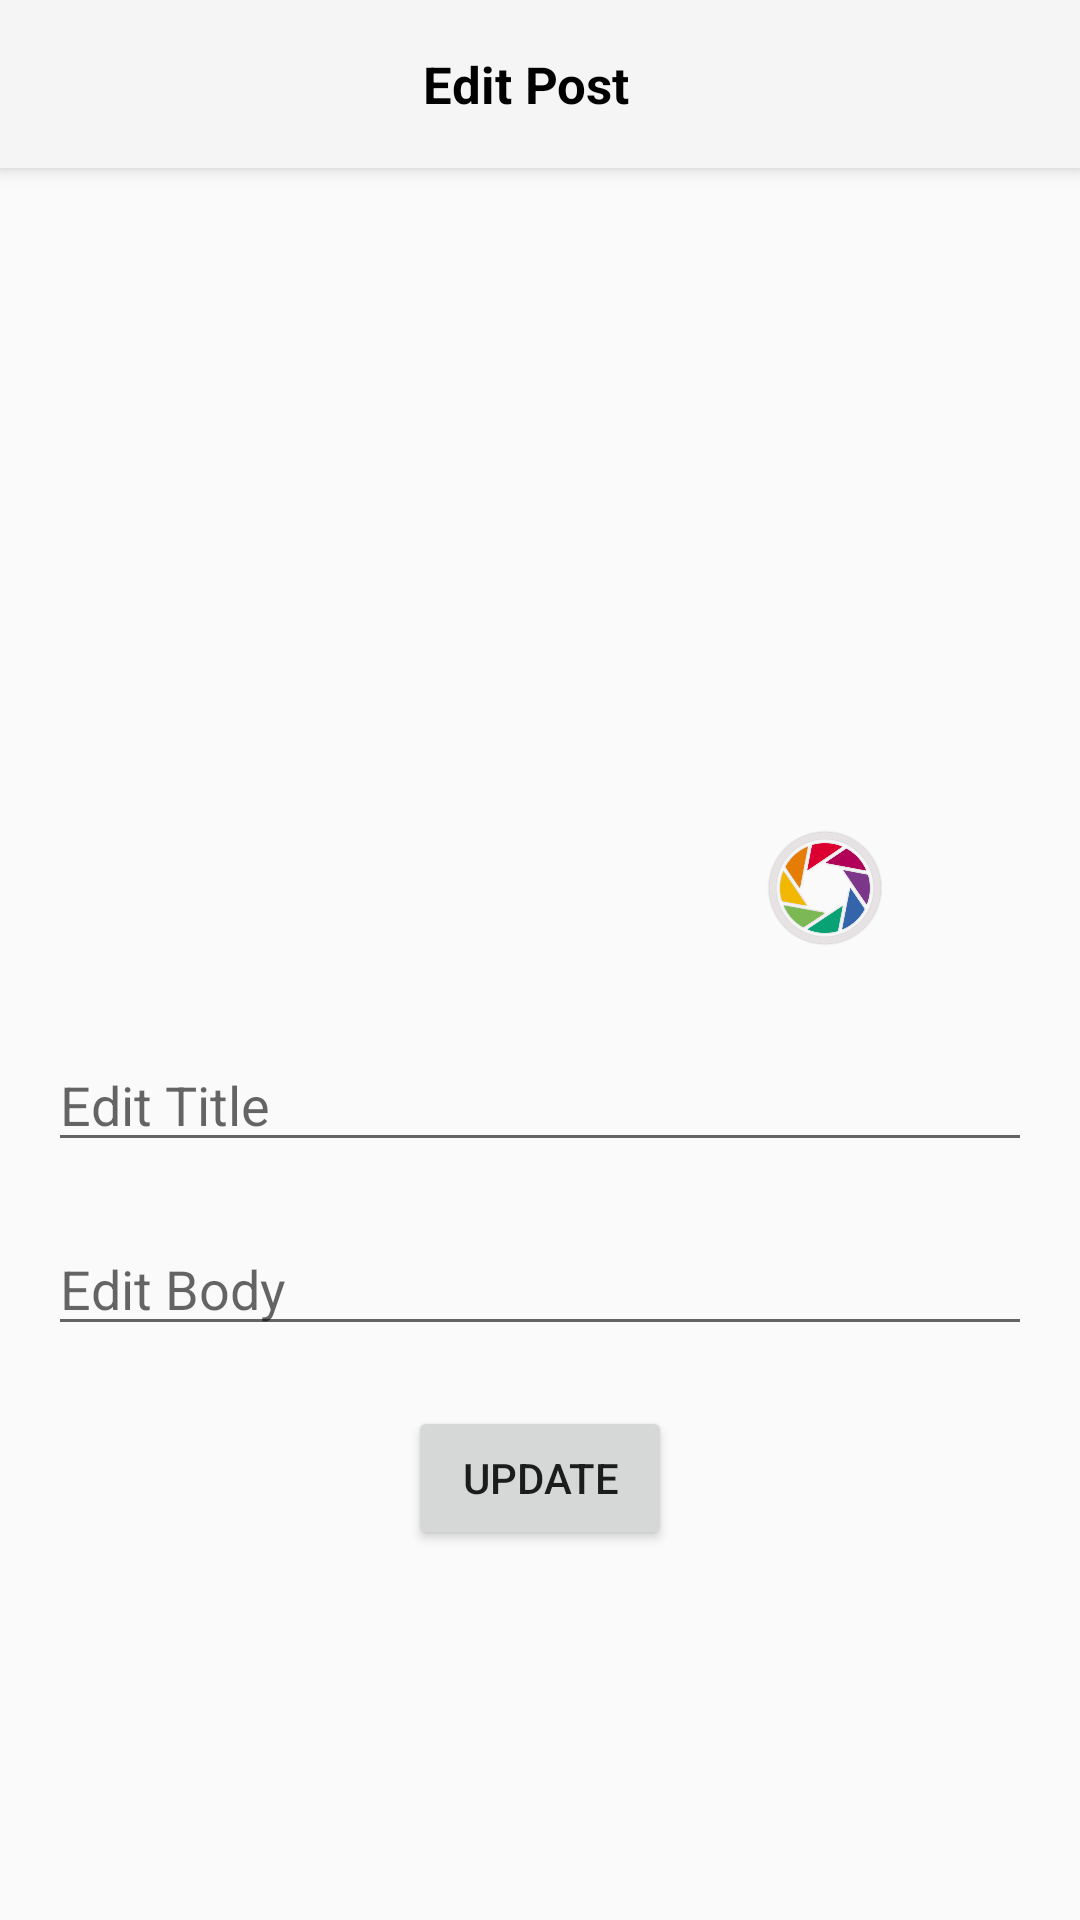

Icons on this 1080px x 1920px Android screen, each with its box as [x1, y1, x2, y2]:
camera: [769, 832, 881, 944]
